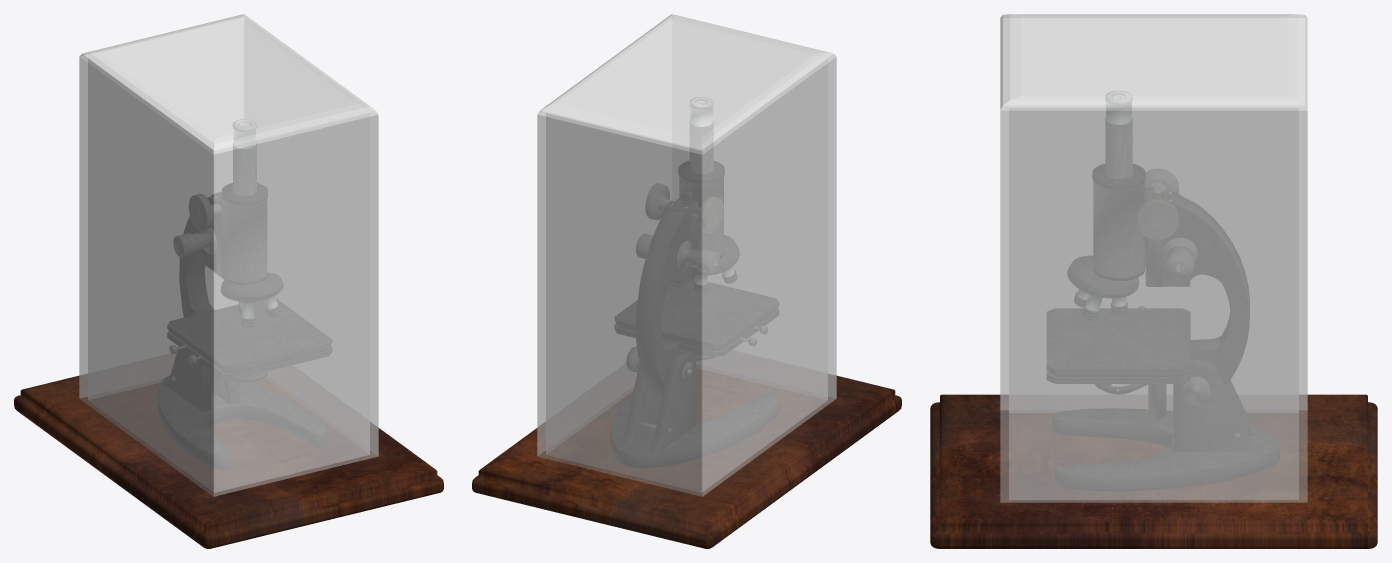
Rendered from microscopio_carlos_chagas.fbx.
The picture shows the model from 3 angles, left to right: view 1: azimuth 30°, elevation 25°; view 2: azimuth 150°, elevation 25°; view 3: azimuth 270°, elevation 25°; orthographic projection. The views are drawn at different scales.
Visible parts, largest first — view 1: cupula, base, microscopio_base_quadrada; view 2: cupula, base, microscopio_base_quadrada; view 3: cupula, base, microscopio_base_quadrada.
Part boxes in pixels (x1=…): cupula: x1=79, y1=14, x2=378, y2=496; base: x1=14, y1=374, x2=443, y2=548; microscopio_base_quadrada: x1=158, y1=119, x2=331, y2=470; cupula: x1=537, y1=14, x2=836, y2=496; base: x1=472, y1=368, x2=901, y2=548; microscopio_base_quadrada: x1=611, y1=97, x2=779, y2=468; cupula: x1=1000, y1=14, x2=1307, y2=502; base: x1=930, y1=394, x2=1377, y2=548; microscopio_base_quadrada: x1=1047, y1=91, x2=1279, y2=490.
Bounding box in the file's own units: 243 × 361 × 342.
Materials: 9 (6 with a texture image).
